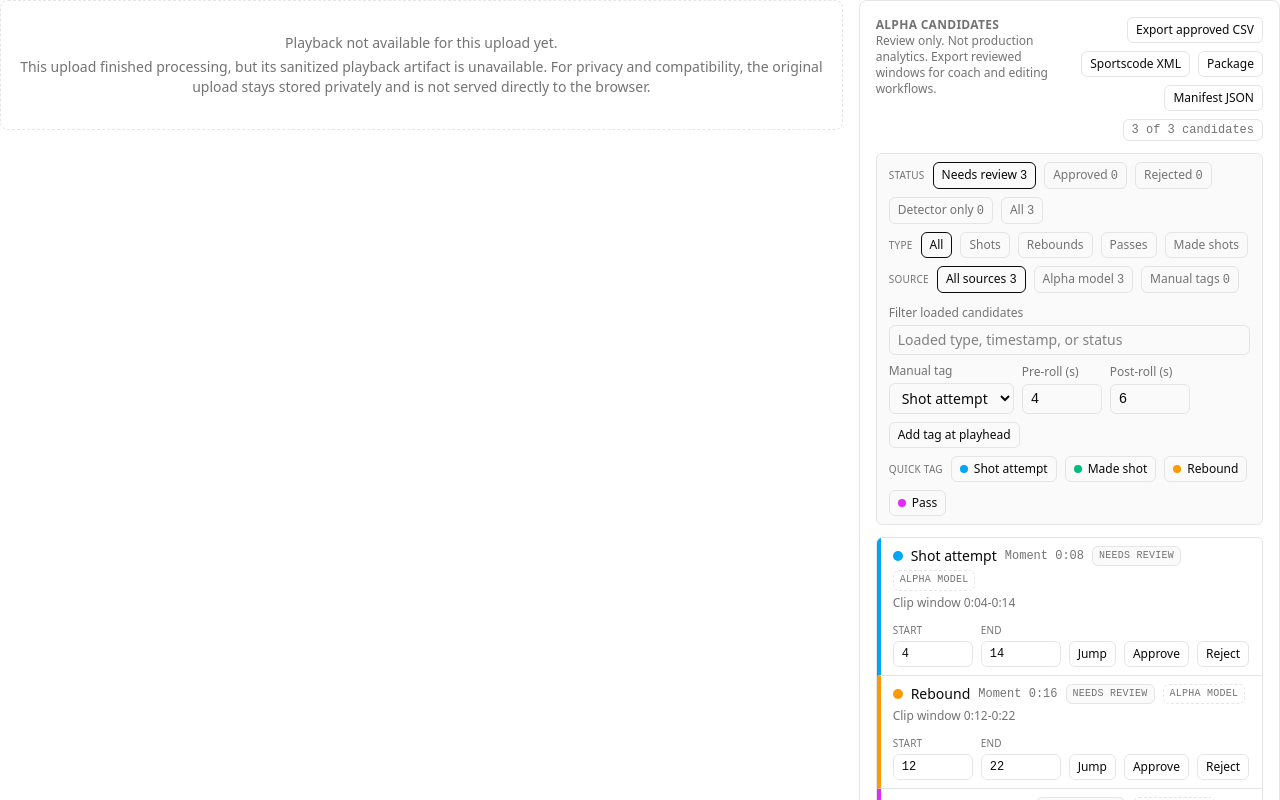
Scenario: VideoPlaybackView › uses the filter box to narrow candidates without implying AI search
Type "rebound" into the search field with test id "candidate-search" at [1069, 340], box [889,325,1250,355]
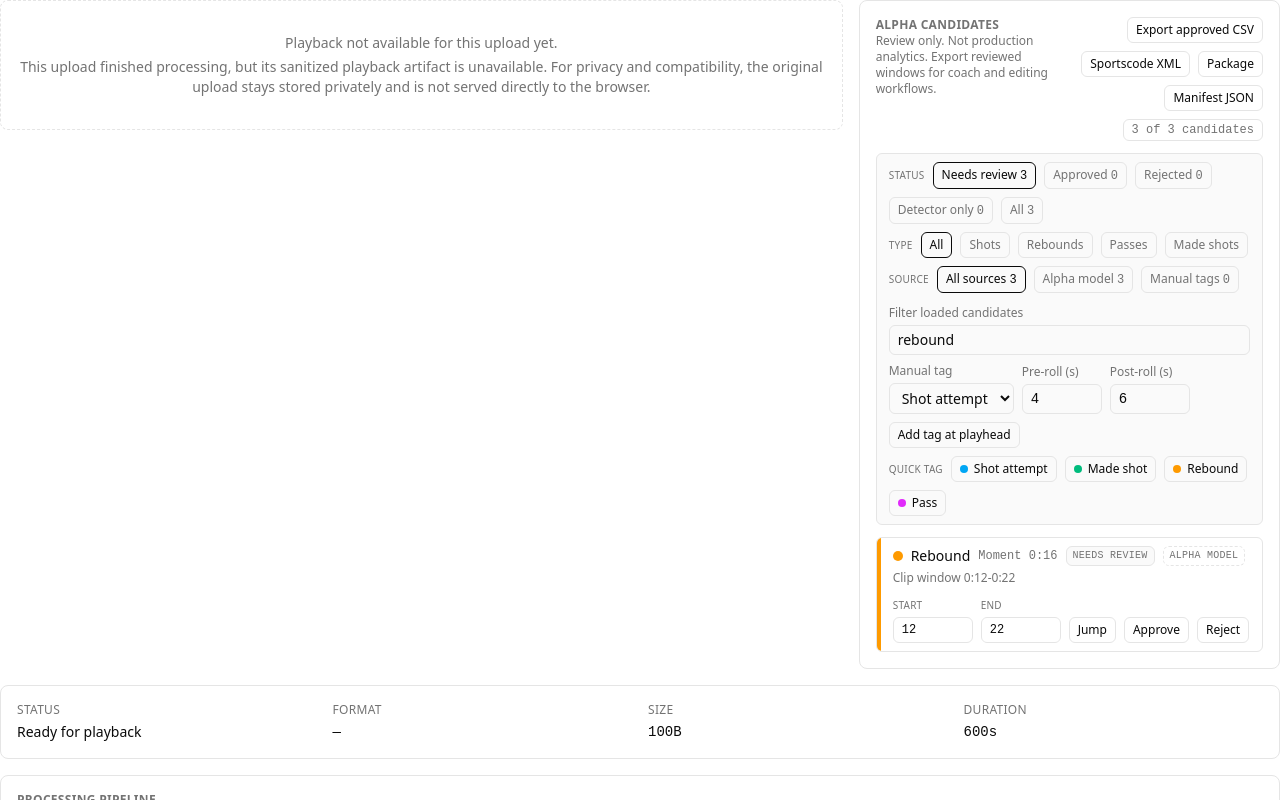
Expected: the text "Rebound" is shown, [911,546,970,566]
Expected: the number of list items with test id "candidate-row" is 1, [877,538,1262,651]
